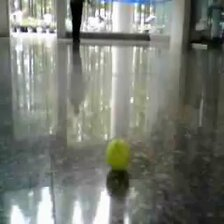tennis: (107, 140, 132, 167)
